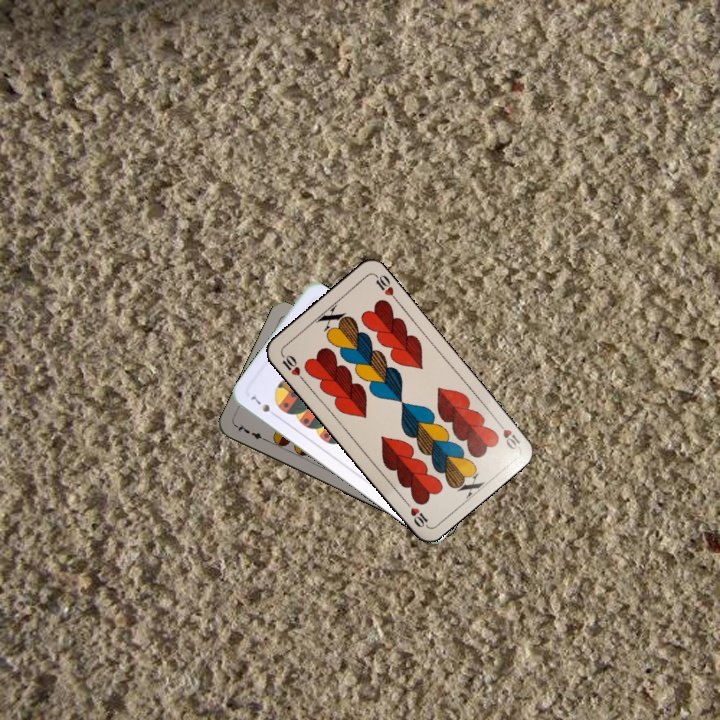E7: (232, 420, 271, 444)
H10: (492, 416, 523, 452), (277, 350, 307, 384)
S7: (247, 390, 280, 420)
